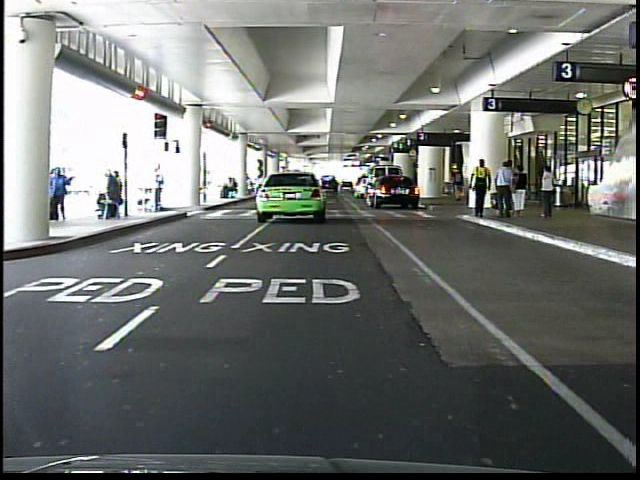person: (538, 162, 566, 229), (52, 164, 79, 226), (468, 157, 491, 225), (492, 160, 514, 222), (148, 164, 172, 219), (512, 160, 528, 217), (451, 165, 466, 204)
